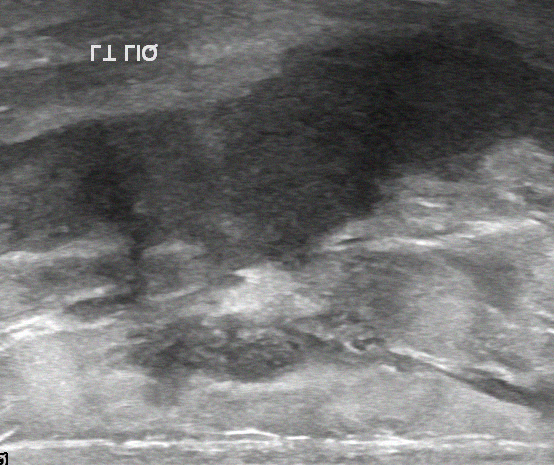Malignant: (263, 17, 552, 185)
